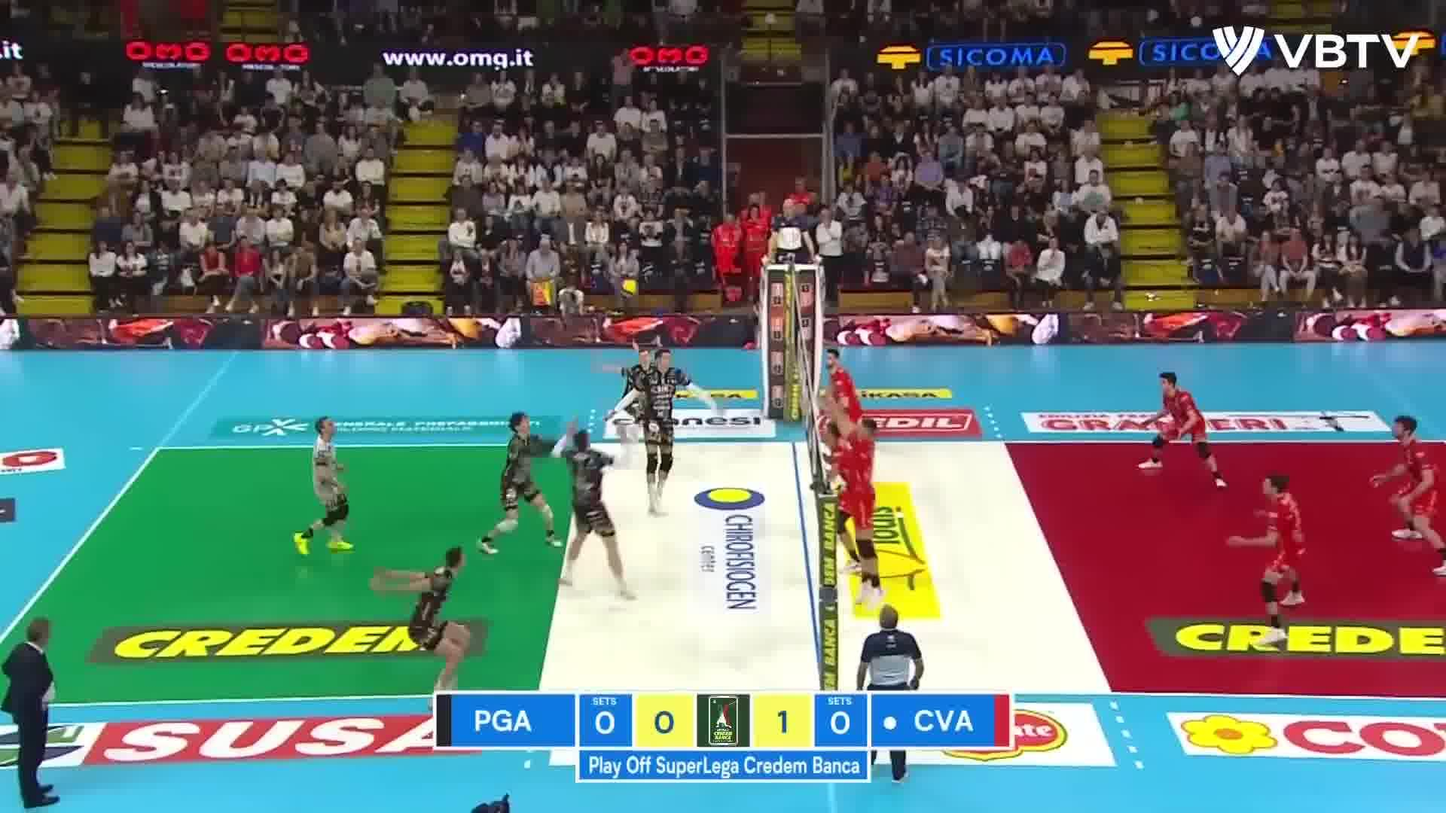balls: (620, 278, 639, 296)
